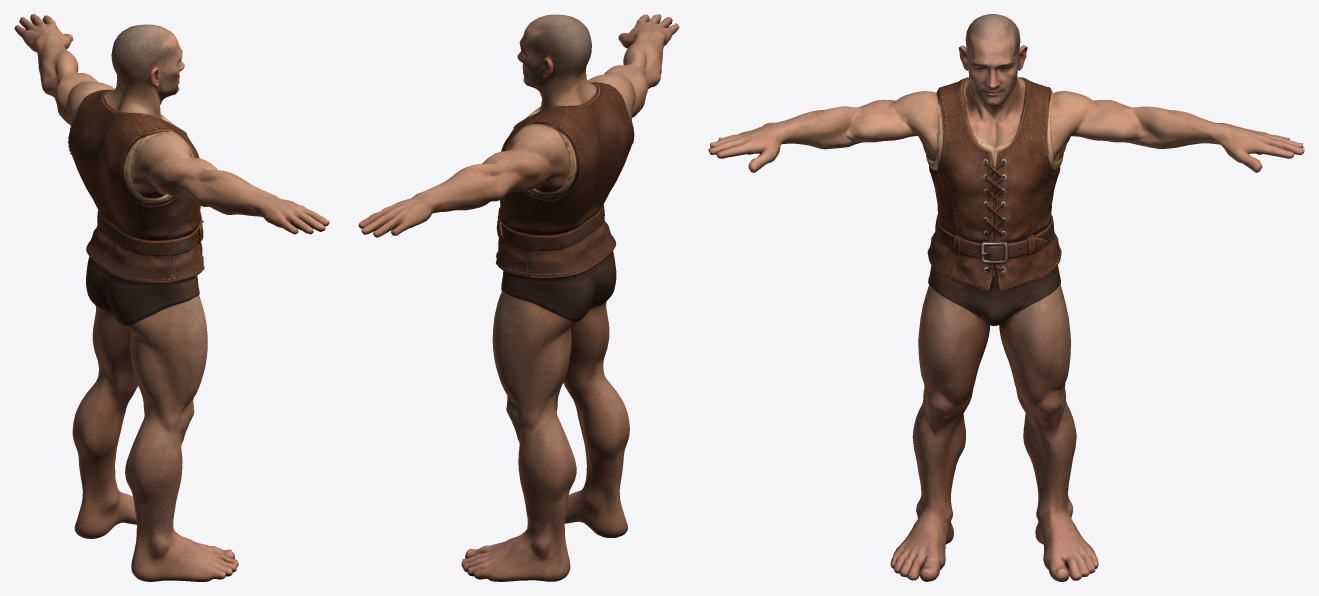
3 renders of one model, left to right at view 1: azimuth 30°, elevation 25°; view 2: azimuth 150°, elevation 25°; view 3: azimuth 270°, elevation 25°, orthographic. The views are drawn at different scales.
Parts seen in each view (by area): view 1: tripo_node_5ab6bd9a-fa98-4775-b40e-1a738123640d; view 2: tripo_node_5ab6bd9a-fa98-4775-b40e-1a738123640d; view 3: tripo_node_5ab6bd9a-fa98-4775-b40e-1a738123640d.
Boxes of the visible parts, bbox=[...] form: tripo_node_5ab6bd9a-fa98-4775-b40e-1a738123640d: bbox=[14, 14, 329, 581]; tripo_node_5ab6bd9a-fa98-4775-b40e-1a738123640d: bbox=[358, 14, 679, 581]; tripo_node_5ab6bd9a-fa98-4775-b40e-1a738123640d: bbox=[708, 14, 1304, 581].
Size of the model in its own units: 0.2113 by 0.9786 by 0.9823.
1 material, 1 textured.
